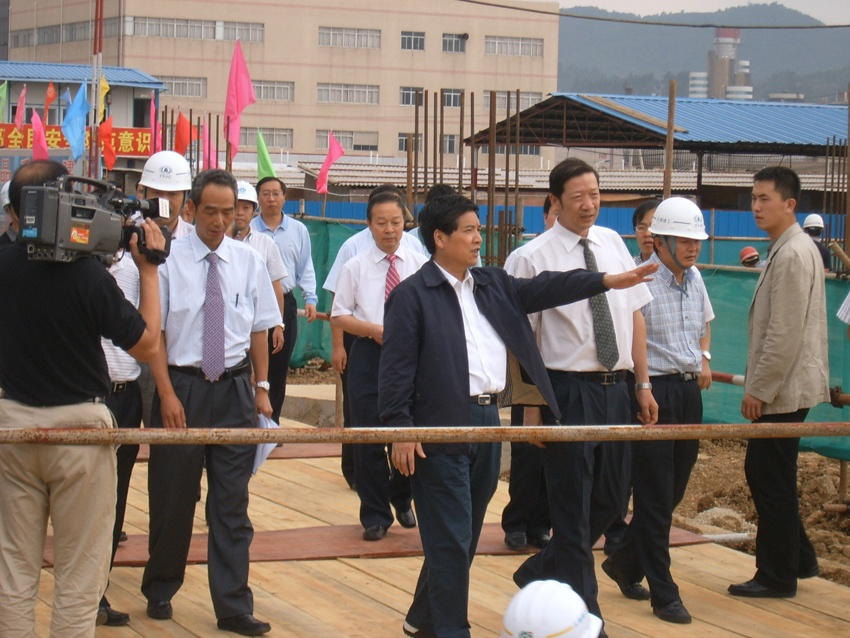none: (417, 194, 485, 272), (9, 158, 76, 223), (545, 159, 606, 229), (189, 167, 239, 245), (744, 163, 803, 229), (365, 192, 407, 249), (630, 200, 660, 256), (253, 173, 288, 216)
red: (738, 246, 761, 268)
white: (649, 192, 707, 269), (138, 151, 192, 224), (228, 178, 258, 229), (799, 212, 825, 238)
